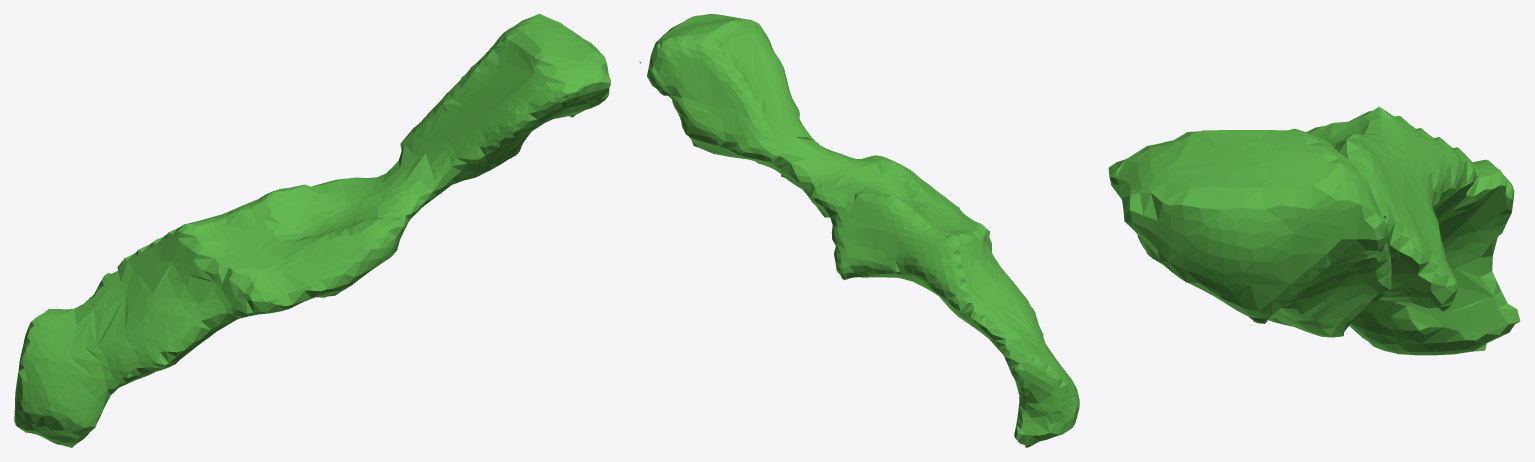
File: Model_10101_LH__Orbital_periallocortex_(OPAl).obj
3 views of the same model, side by side, from view 1: azimuth 30°, elevation 25°; view 2: azimuth 150°, elevation 25°; view 3: azimuth 270°, elevation 25° (orthographic). The views are drawn at different scales.
Size of the model in its own units: 5.71 by 3.46 by 2.24.
